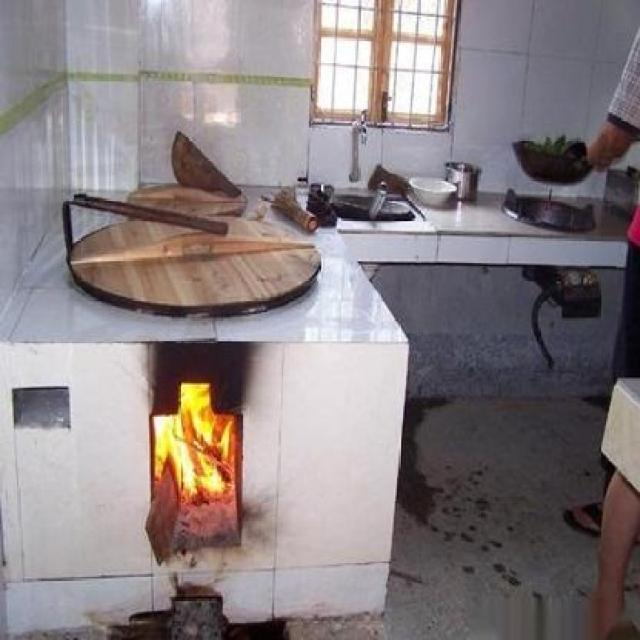Fire: (148, 376, 244, 506)
